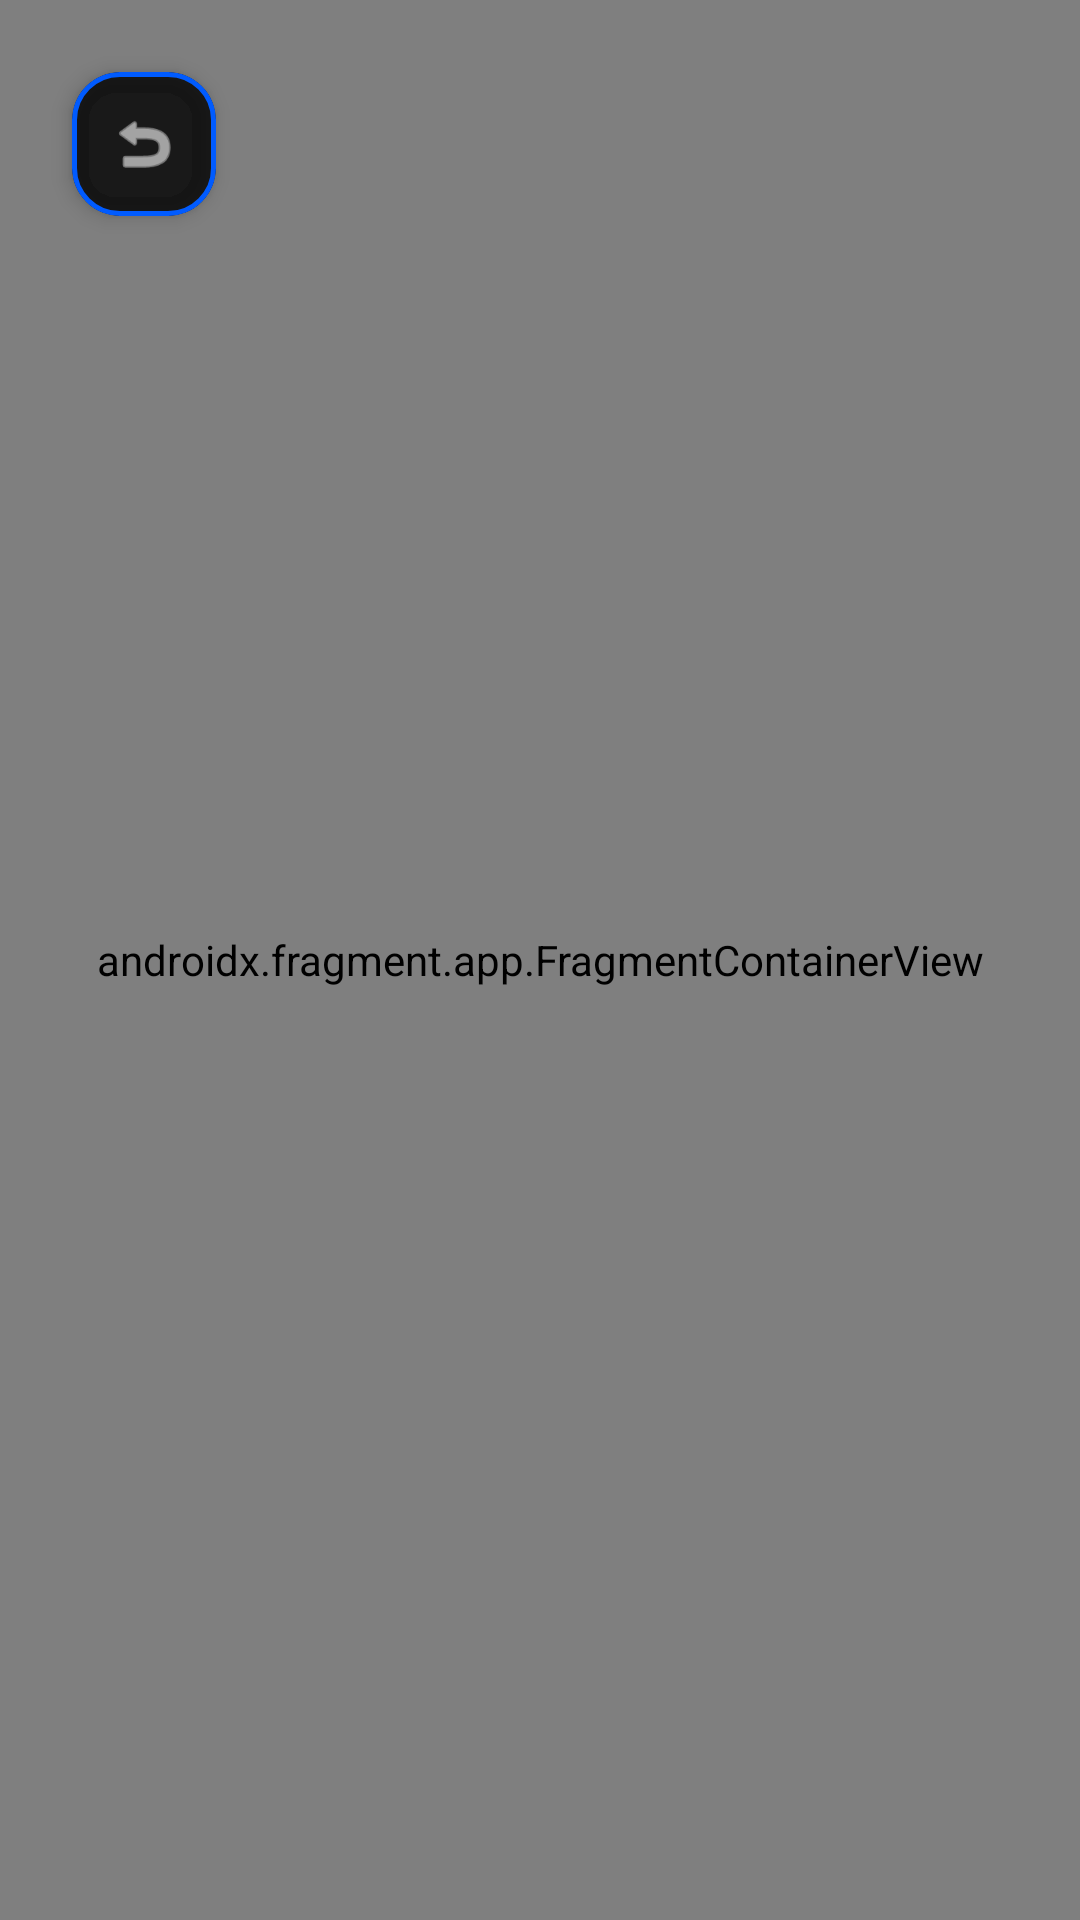

Icon bounding boxes for this 1080px×1920px phone screenshot, format Rect(x1, y1, x2, y2):
revert: Rect(72, 72, 216, 216)
